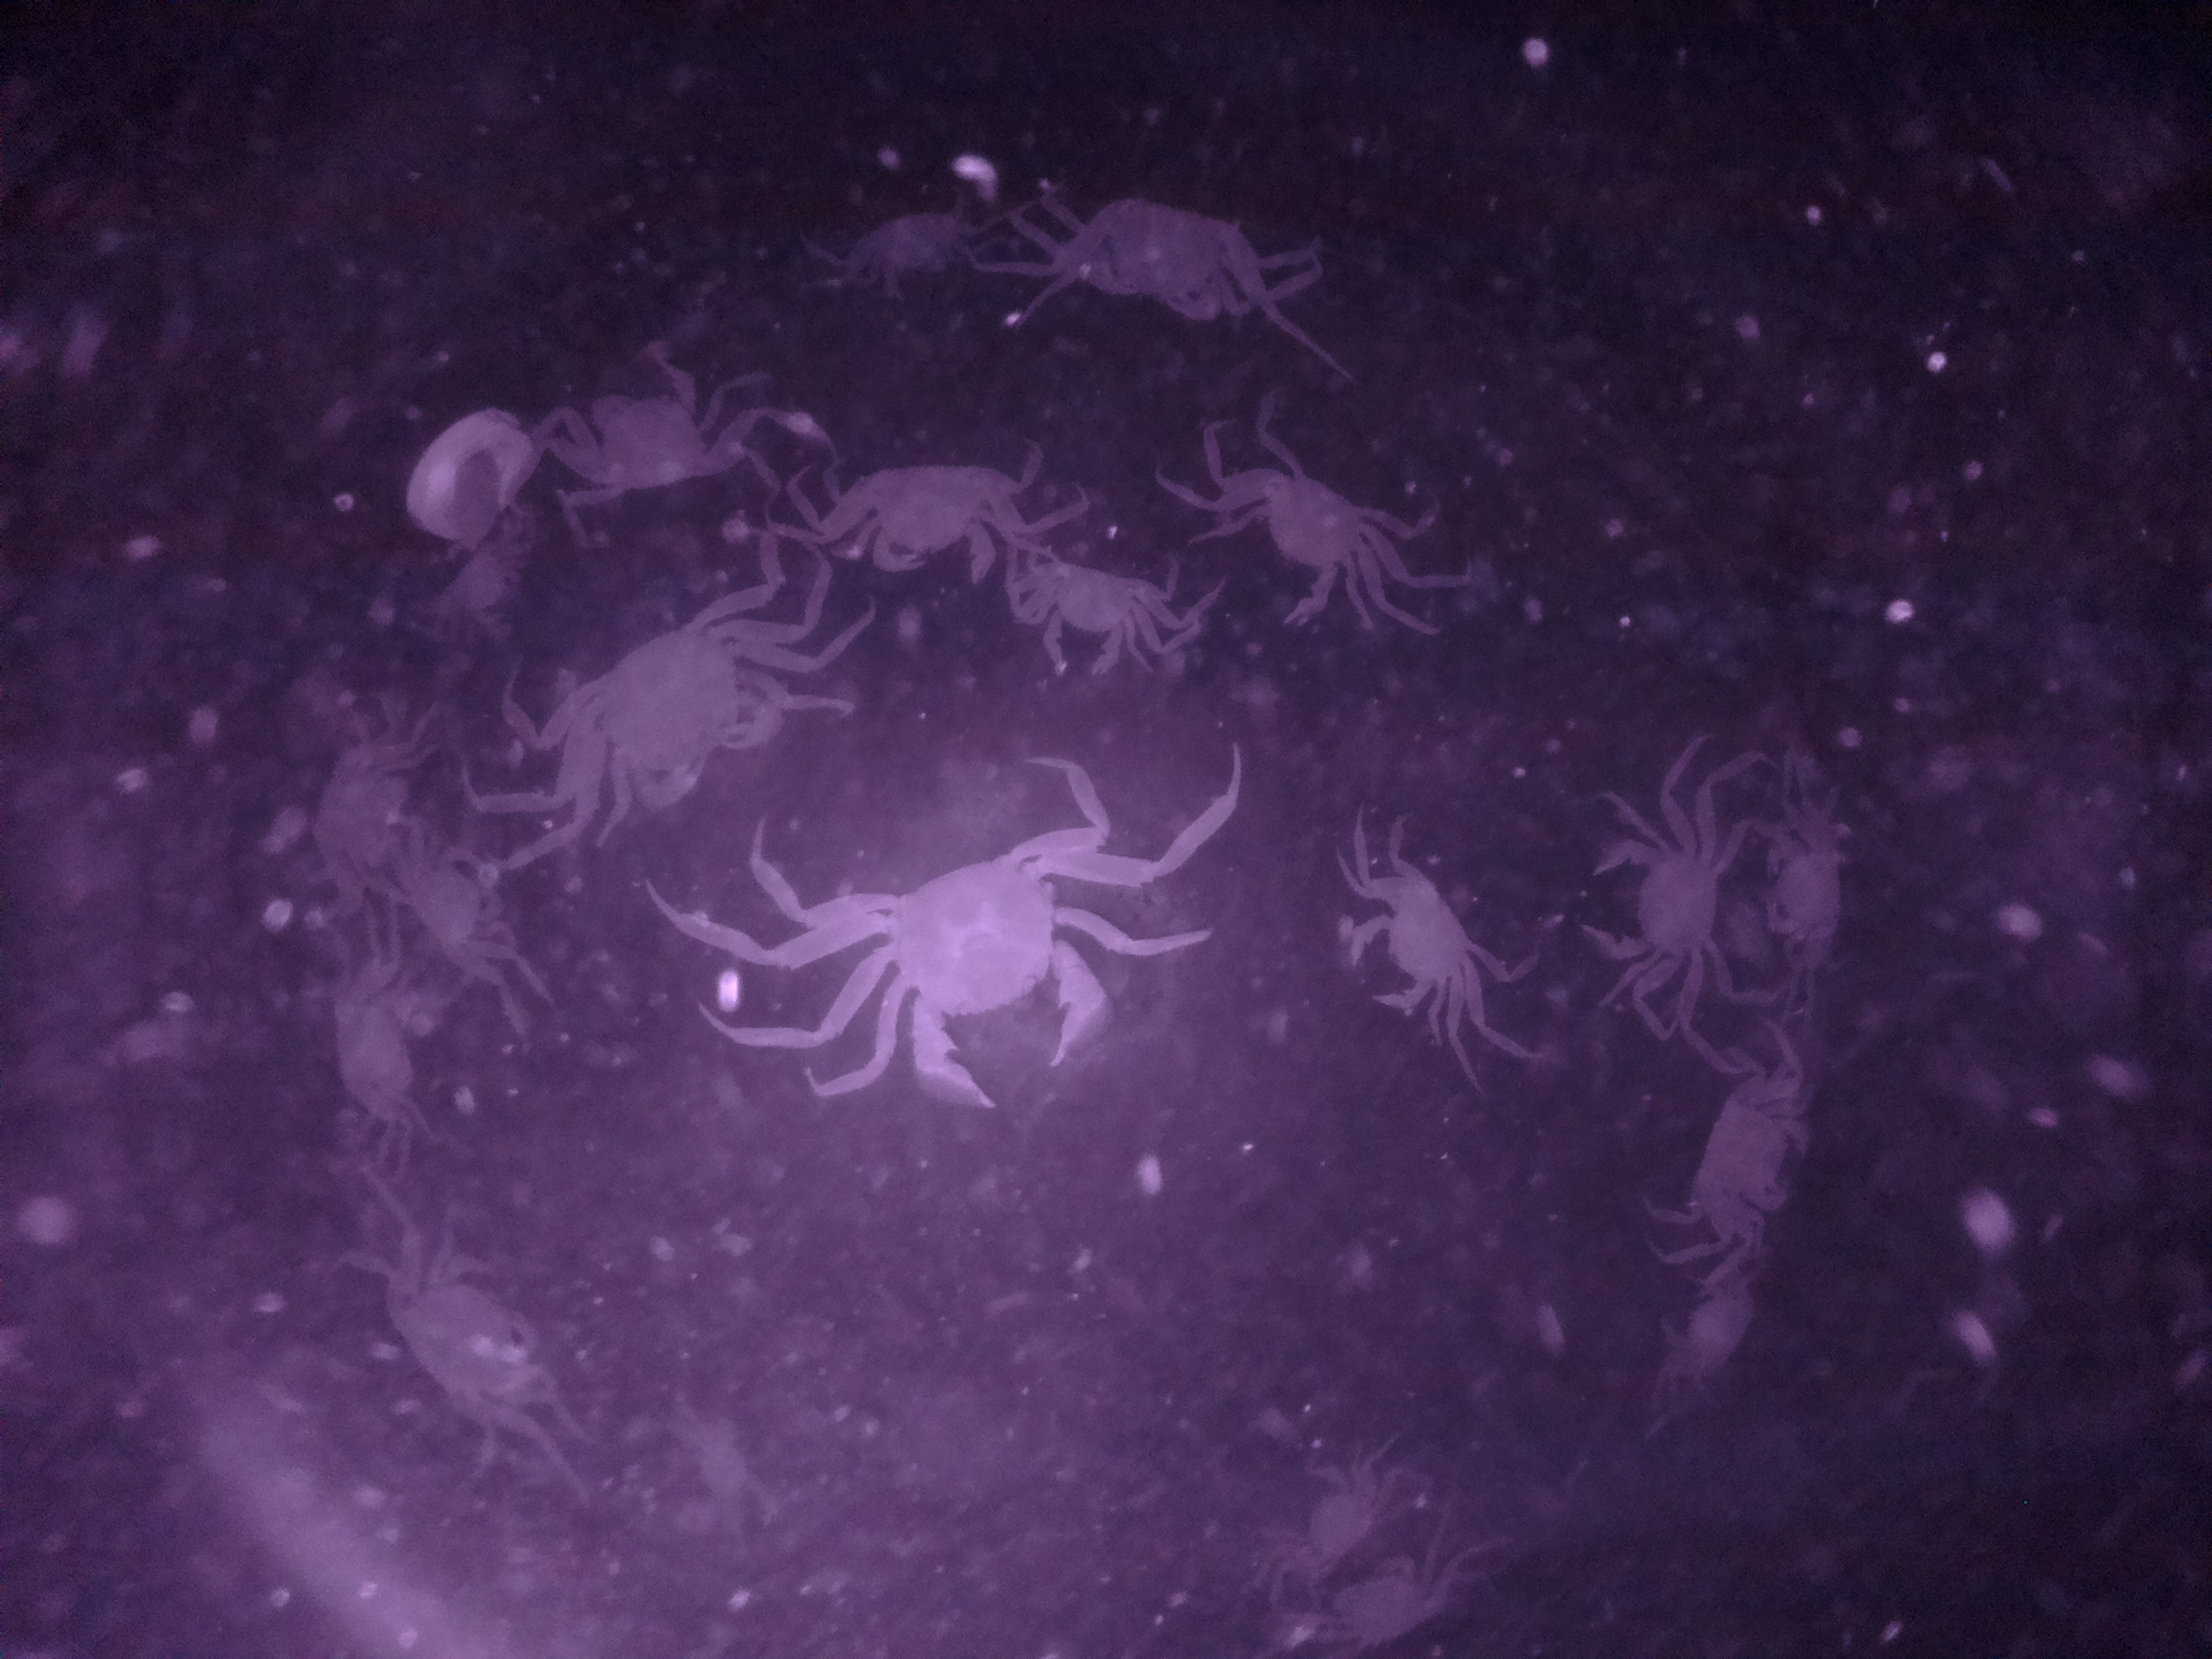Crab: (824, 824, 1127, 1117), (577, 563, 799, 831), (1191, 453, 1402, 633), (1043, 183, 1280, 335), (559, 345, 761, 516), (820, 436, 1033, 598), (1557, 819, 1743, 995), (1676, 1063, 1829, 1256), (1348, 859, 1498, 1047), (1021, 533, 1167, 697), (381, 829, 517, 985), (1745, 809, 1865, 979), (1254, 1445, 1392, 1568)
